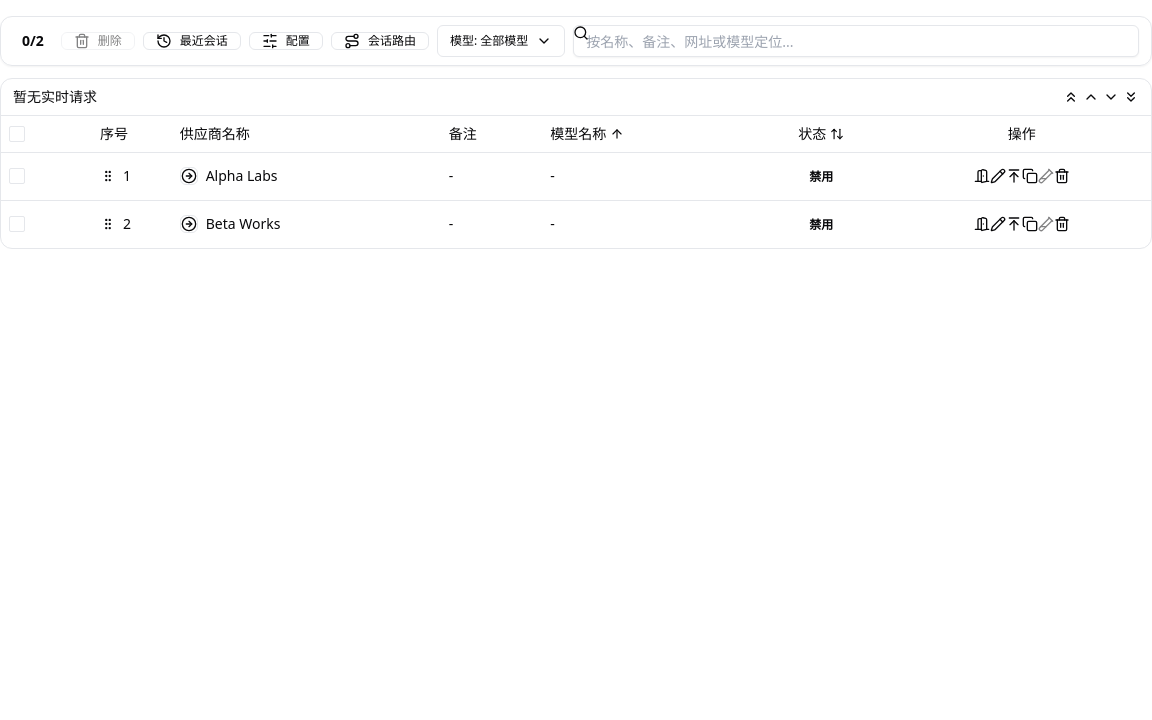
Scenario: ProviderList Component › locates providers with the search input without filtering rows
Expected: the text "暂无实时请求" is shown, 13,87 -> 97,107
Expected: the text "Alpha Labs" is shown, 206,166 -> 277,185
Type "beta" into the field with placeholder "按名称、备注、网址或模型定位...".
click(856, 41); type("beta")  # box 573,25 -> 1139,57
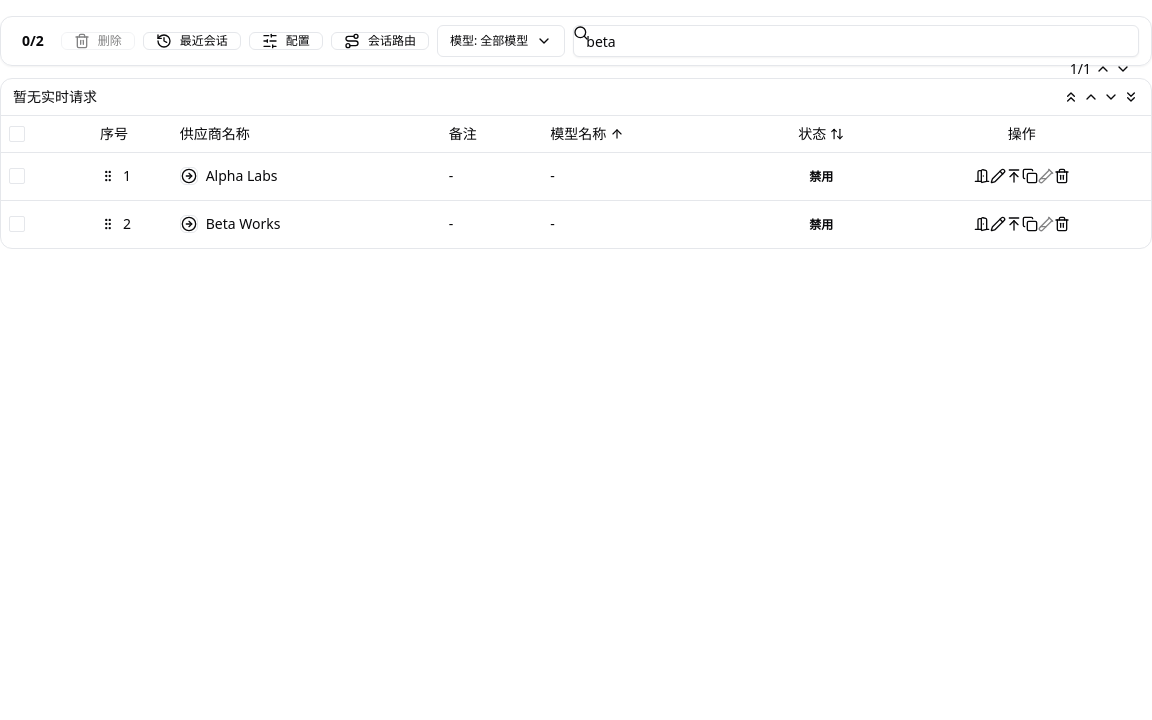
Expected: the text "Alpha Labs" is shown, 206,166 -> 277,185
Result: the text "1/1" is shown at 1070,59 -> 1091,79
Replace the text in the field with placeholder "按名称、备注、网址或模型定位..." with "gamma" at (856, 41), box 573,25 -> 1139,57
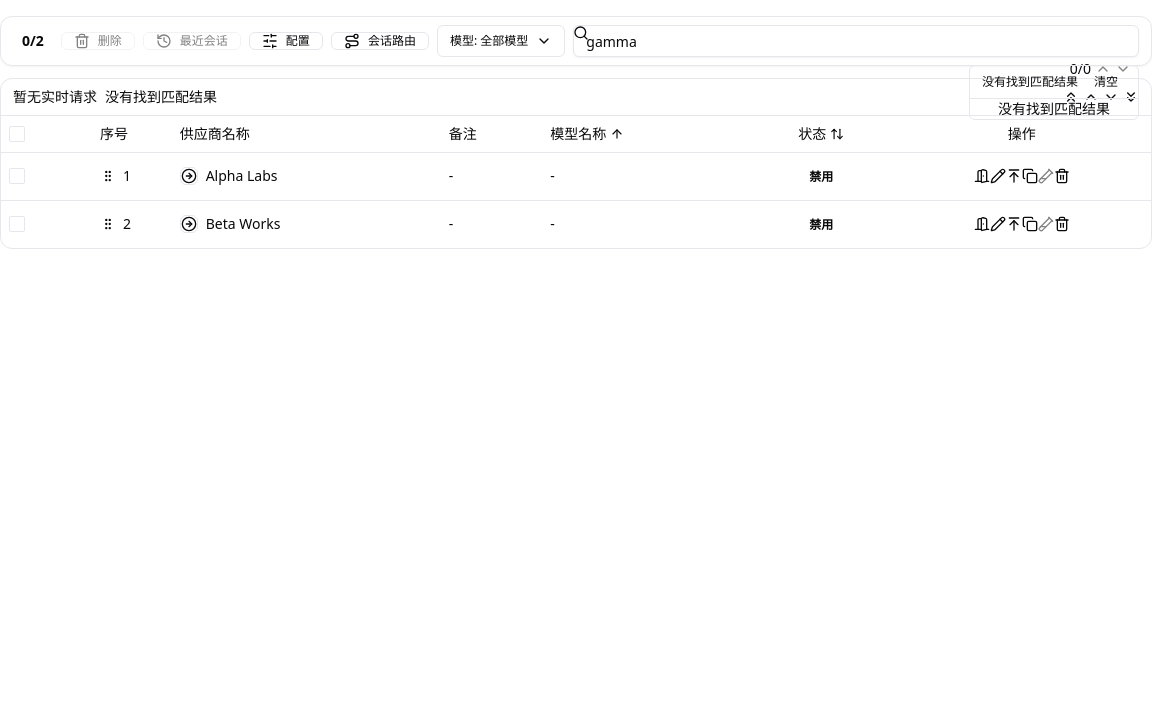
Expected: the text "Alpha Labs" is shown, 206,166 -> 277,185
Result: the text "0/0" is shown at 1070,59 -> 1091,79
Result: the text "没有找到匹配结果" next to "暂无实时请求" is shown at 105,87 -> 217,106
